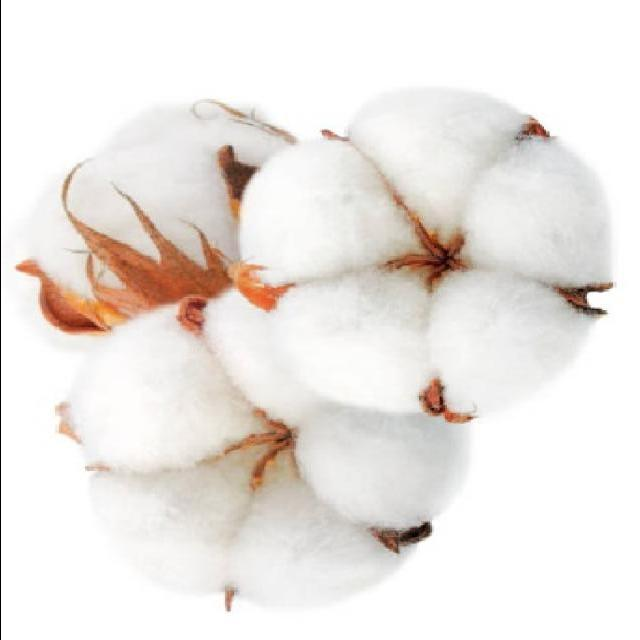Matured Cotton Boll: (73, 298, 461, 608), (252, 93, 596, 415), (35, 84, 281, 334)
